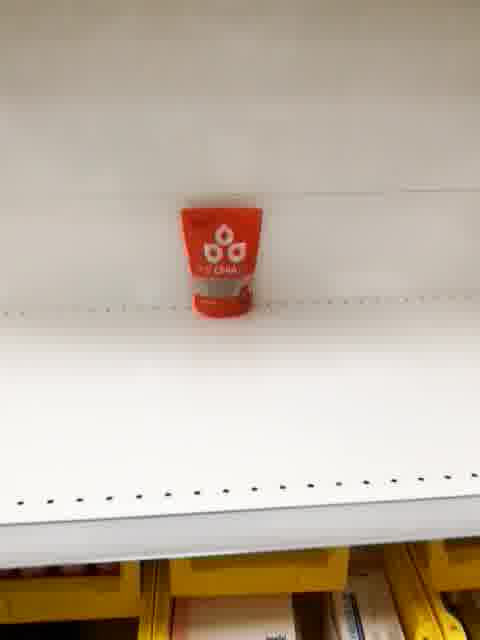whitechia: (178, 203, 266, 321)
